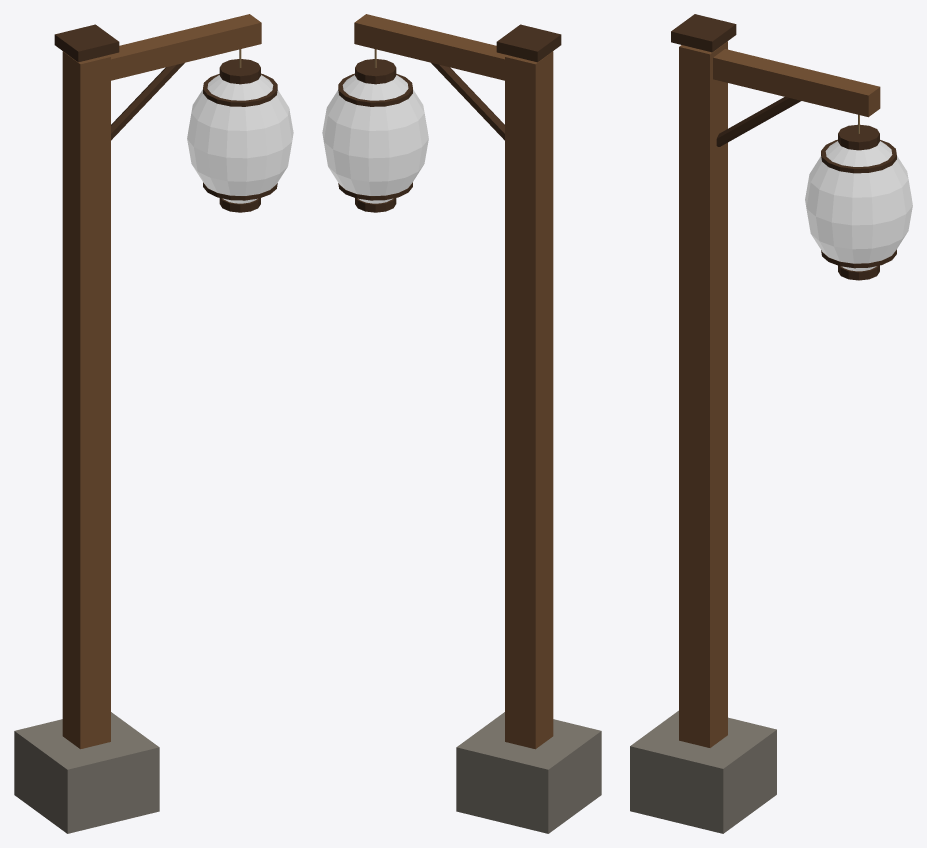
The model's file is lampa_na_sloupu.glb.
The picture shows the model from 3 angles, left to right: view 1: azimuth 30°, elevation 25°; view 2: azimuth 150°, elevation 25°; view 3: azimuth 330°, elevation 25°; orthographic projection.
Parts seen in each view (by area): view 1: lampa_na_sloupu, noc; view 2: lampa_na_sloupu, noc; view 3: lampa_na_sloupu, noc.
Part boxes in pixels (left/top/right/bottom): lampa_na_sloupu: left=14, top=14, right=277, bottom=833; noc: left=187, top=75, right=293, bottom=203; lampa_na_sloupu: left=338, top=14, right=601, bottom=833; noc: left=322, top=75, right=428, bottom=203; lampa_na_sloupu: left=630, top=14, right=896, bottom=833; noc: left=805, top=141, right=912, bottom=271.
Size of the model in its own units: 0.962 by 2.86 by 0.364.
Materials: 2 (2 with a texture image).
